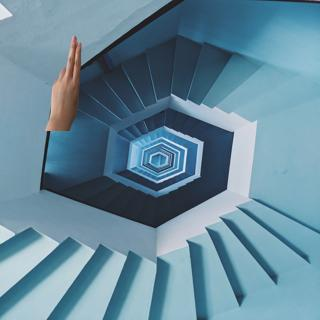DHAVE: (45, 32, 88, 124)
